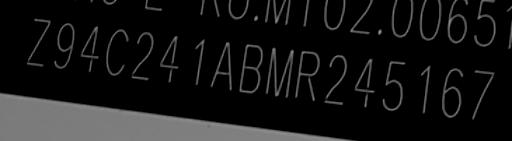letter: (289, 42, 321, 105), (379, 56, 409, 119), (468, 67, 500, 124), (319, 47, 347, 108), (351, 51, 377, 114), (22, 14, 52, 68), (439, 64, 467, 121), (264, 40, 292, 95), (236, 39, 262, 96), (414, 59, 436, 118), (132, 26, 154, 83), (160, 29, 182, 86), (54, 16, 76, 71), (212, 39, 234, 94), (106, 25, 128, 78), (188, 35, 210, 88), (80, 17, 100, 74)
